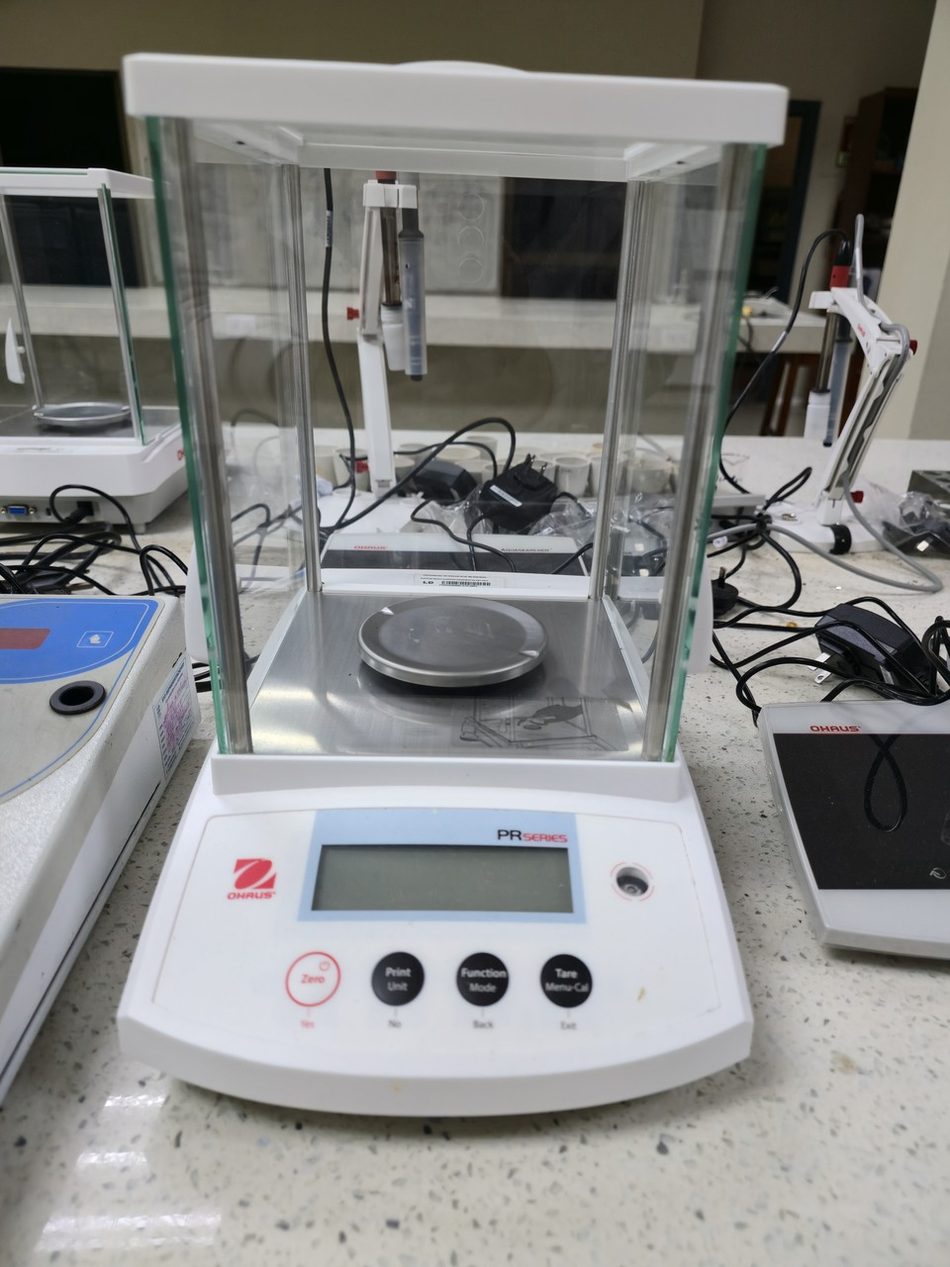ohaus_pr224: (87, 5, 818, 1167)
